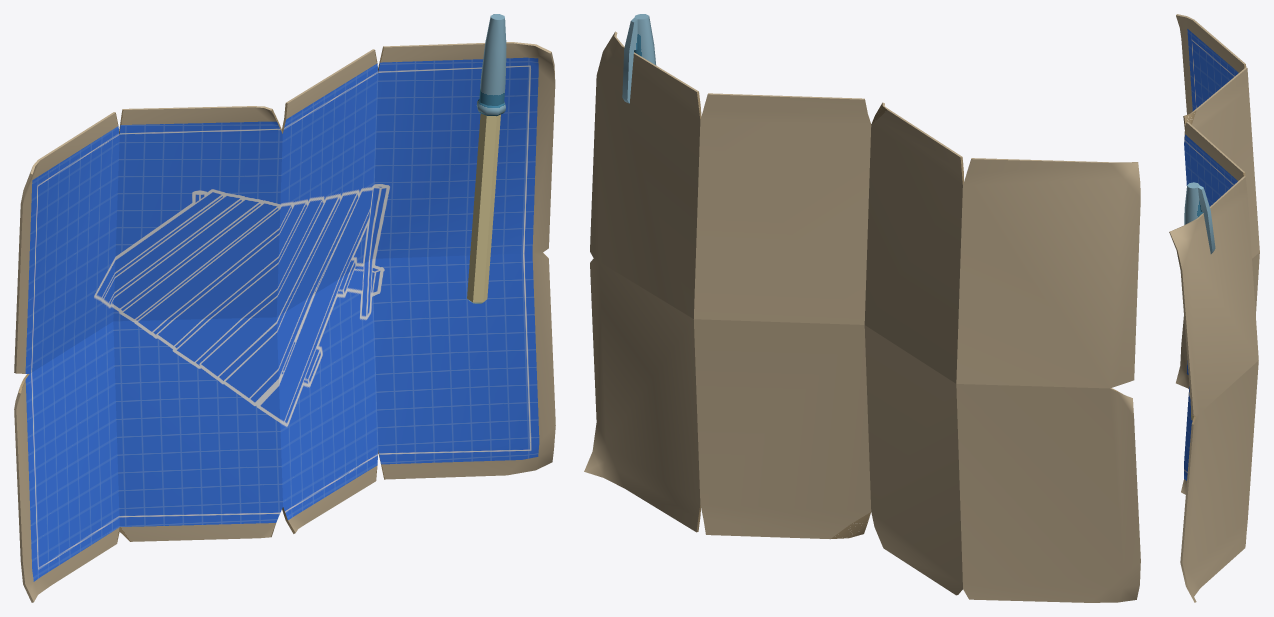
File: SM_RampBlueprintUpgrade.dae
The picture shows the model from 3 angles, left to right: view 1: azimuth 30°, elevation 25°; view 2: azimuth 150°, elevation 25°; view 3: azimuth 270°, elevation 25°; orthographic projection. The views are drawn at different scales.
Visible parts, largest first — view 1: SM_RampBlueprintUpgrade; view 2: SM_RampBlueprintUpgrade; view 3: SM_RampBlueprintUpgrade.
Boxes of the visible parts, x1,y1,x2,y2 form: SM_RampBlueprintUpgrade: (14, 14, 555, 602); SM_RampBlueprintUpgrade: (584, 14, 1140, 602); SM_RampBlueprintUpgrade: (1169, 14, 1259, 602).
Size of the model in its own units: 170 by 28.99 by 140.
2 materials, 2 textured.
